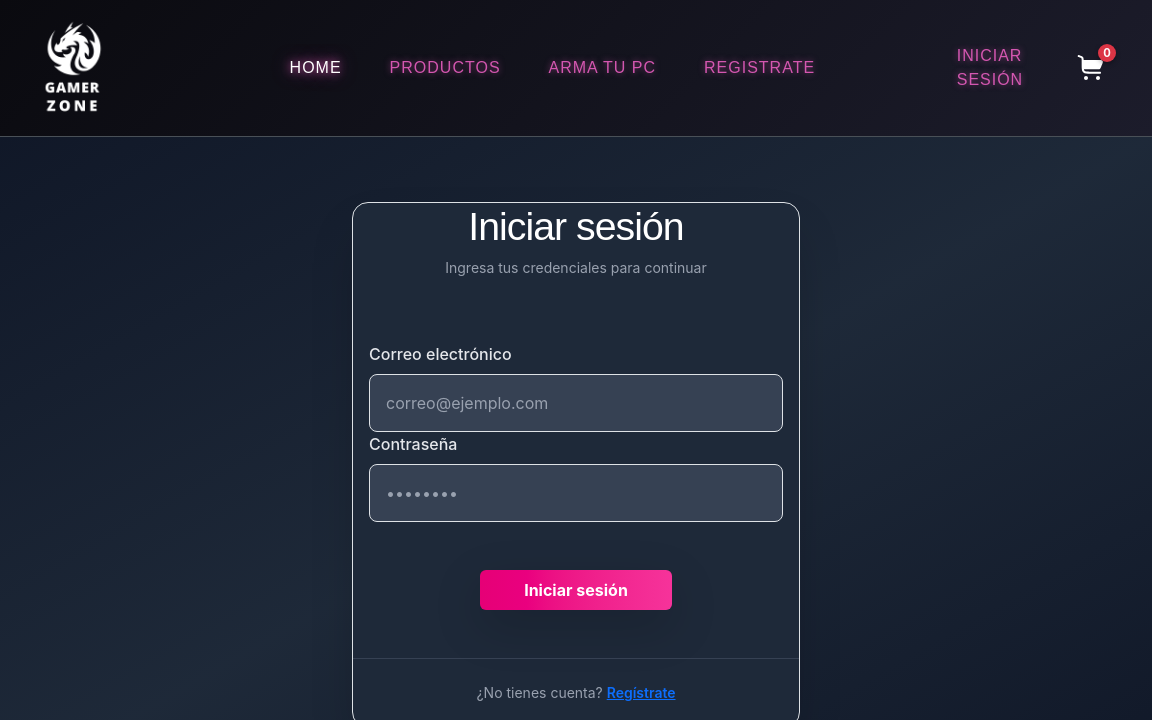
it: Login Component › muestra errores de validacion para campos vacios
The width and height of the screenshot is (1152, 720).
Click the button "Iniciar sesión" at (576, 590), box [480,570,672,610]
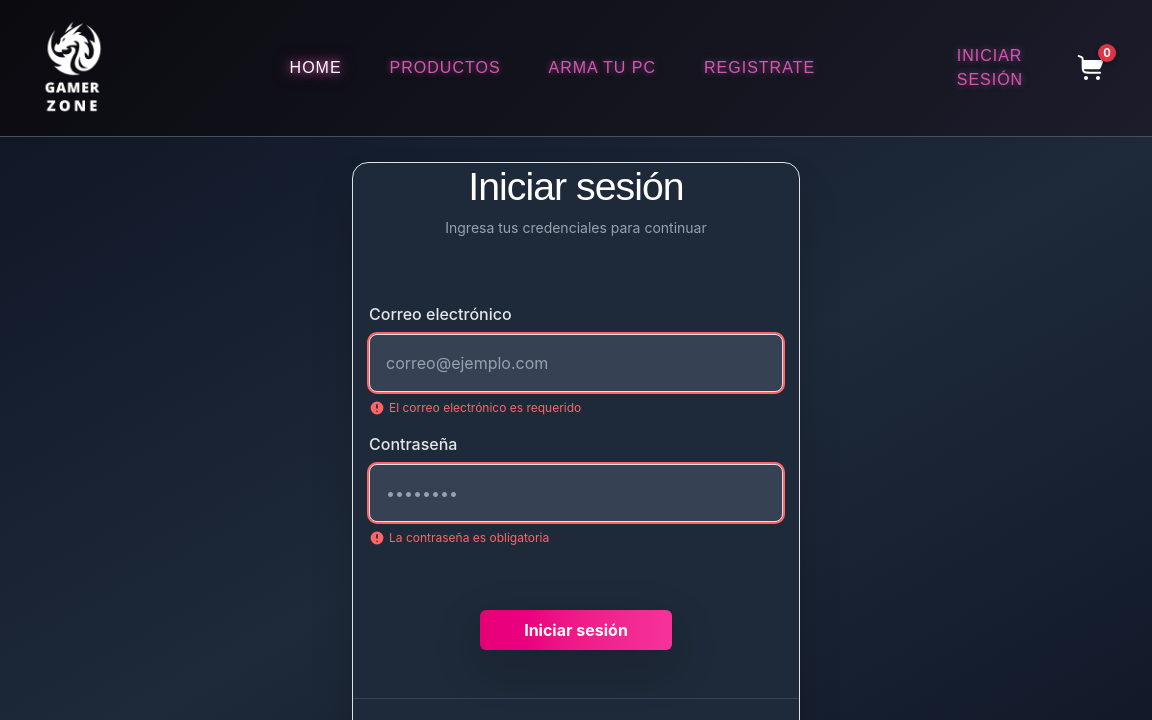
Now the text "El correo electrónico es requerido" is shown, box [369,400,581,416]
Now the text "La contraseña es obligatoria" is shown, box [369,530,549,546]
